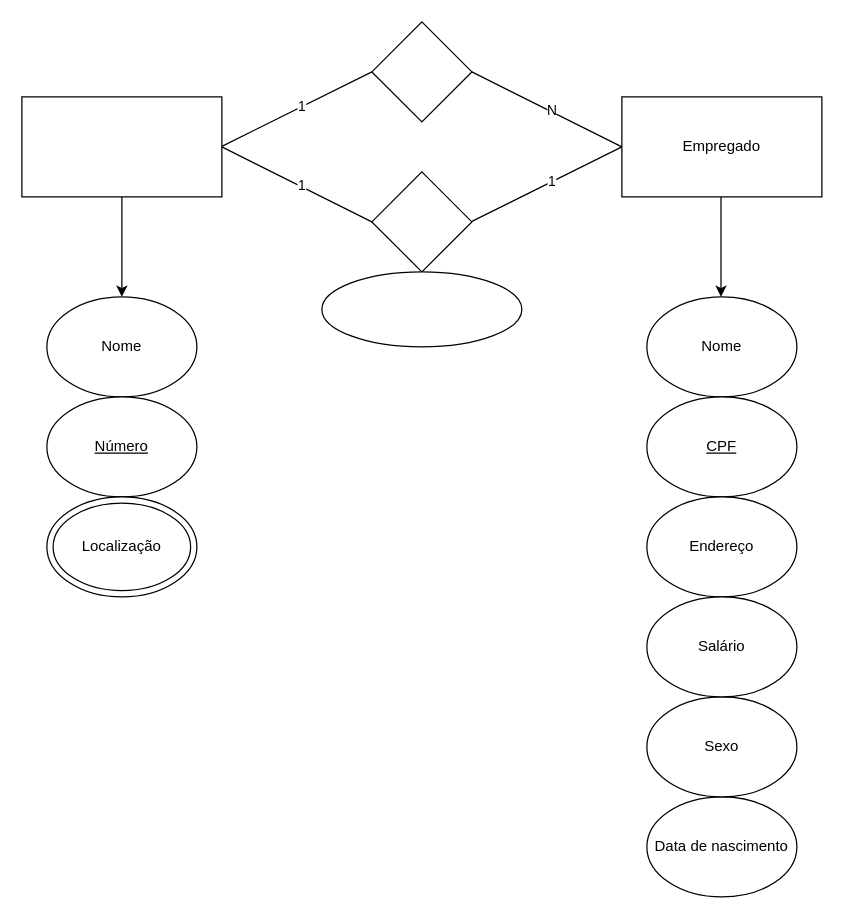
The diagram is 844 pixels wide and 919 high, and some of its shapes have lost their labels. The shapes that lost their labels are listed below. From the top down, each one's centre as x and y in pixels, then its label:
At point (421, 71): "Associado".
At point (121, 146): "Departamento".
At point (421, 221): "Gerência".
At point (421, 309): "Data de início da gerência".
